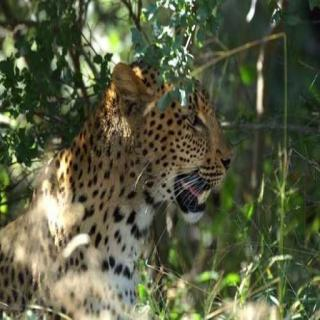Leopard: (0, 59, 245, 317)
